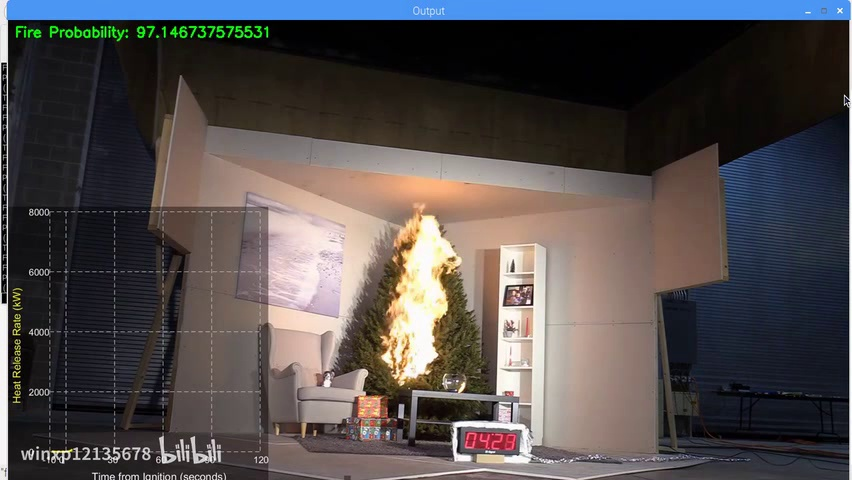fire: (377, 201, 461, 390)
